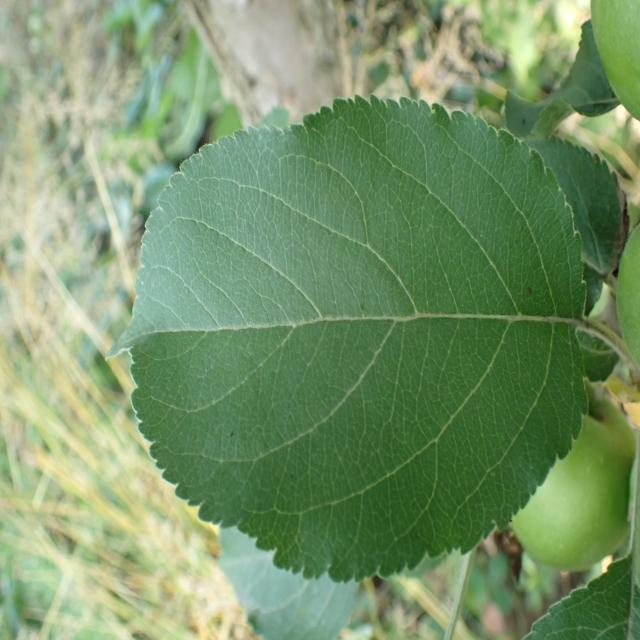healthy: (104, 94, 590, 586), (588, 0, 639, 121)
